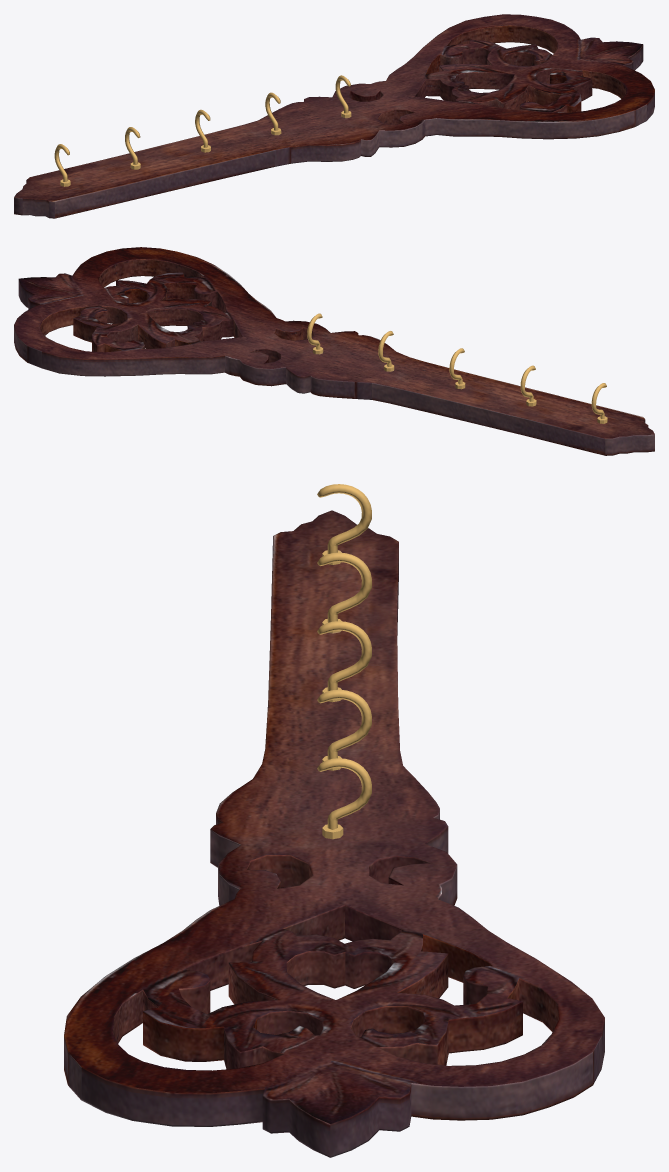
File: WARISAN CRAFTWOOD-01_Heart Shape Key Hanger.fbx
The picture shows the model from 3 angles, top to bottom: view 1: azimuth 30°, elevation 25°; view 2: azimuth 150°, elevation 25°; view 3: azimuth 270°, elevation 25°; orthographic projection. The views are drawn at different scales.
Visible parts, largest first — view 1: Plane; view 2: Plane; view 3: Plane.
Boxes of the visible parts, box(x1,y1,x2,y2) form: Plane: box(14, 14, 654, 218); Plane: box(14, 247, 654, 455); Plane: box(64, 484, 604, 1157).
Size of the model in its own units: 249 by 20.85 by 92.66.
1 material, 1 textured.
